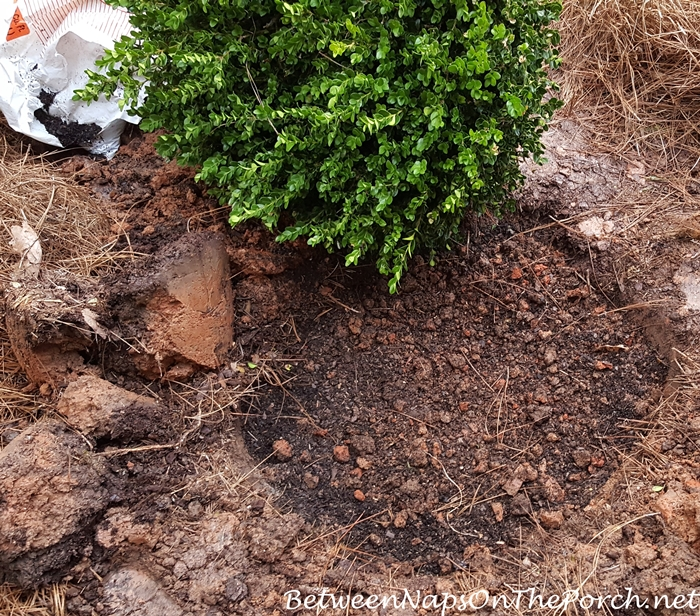dirt: (8, 252, 696, 582), (526, 116, 695, 249)
